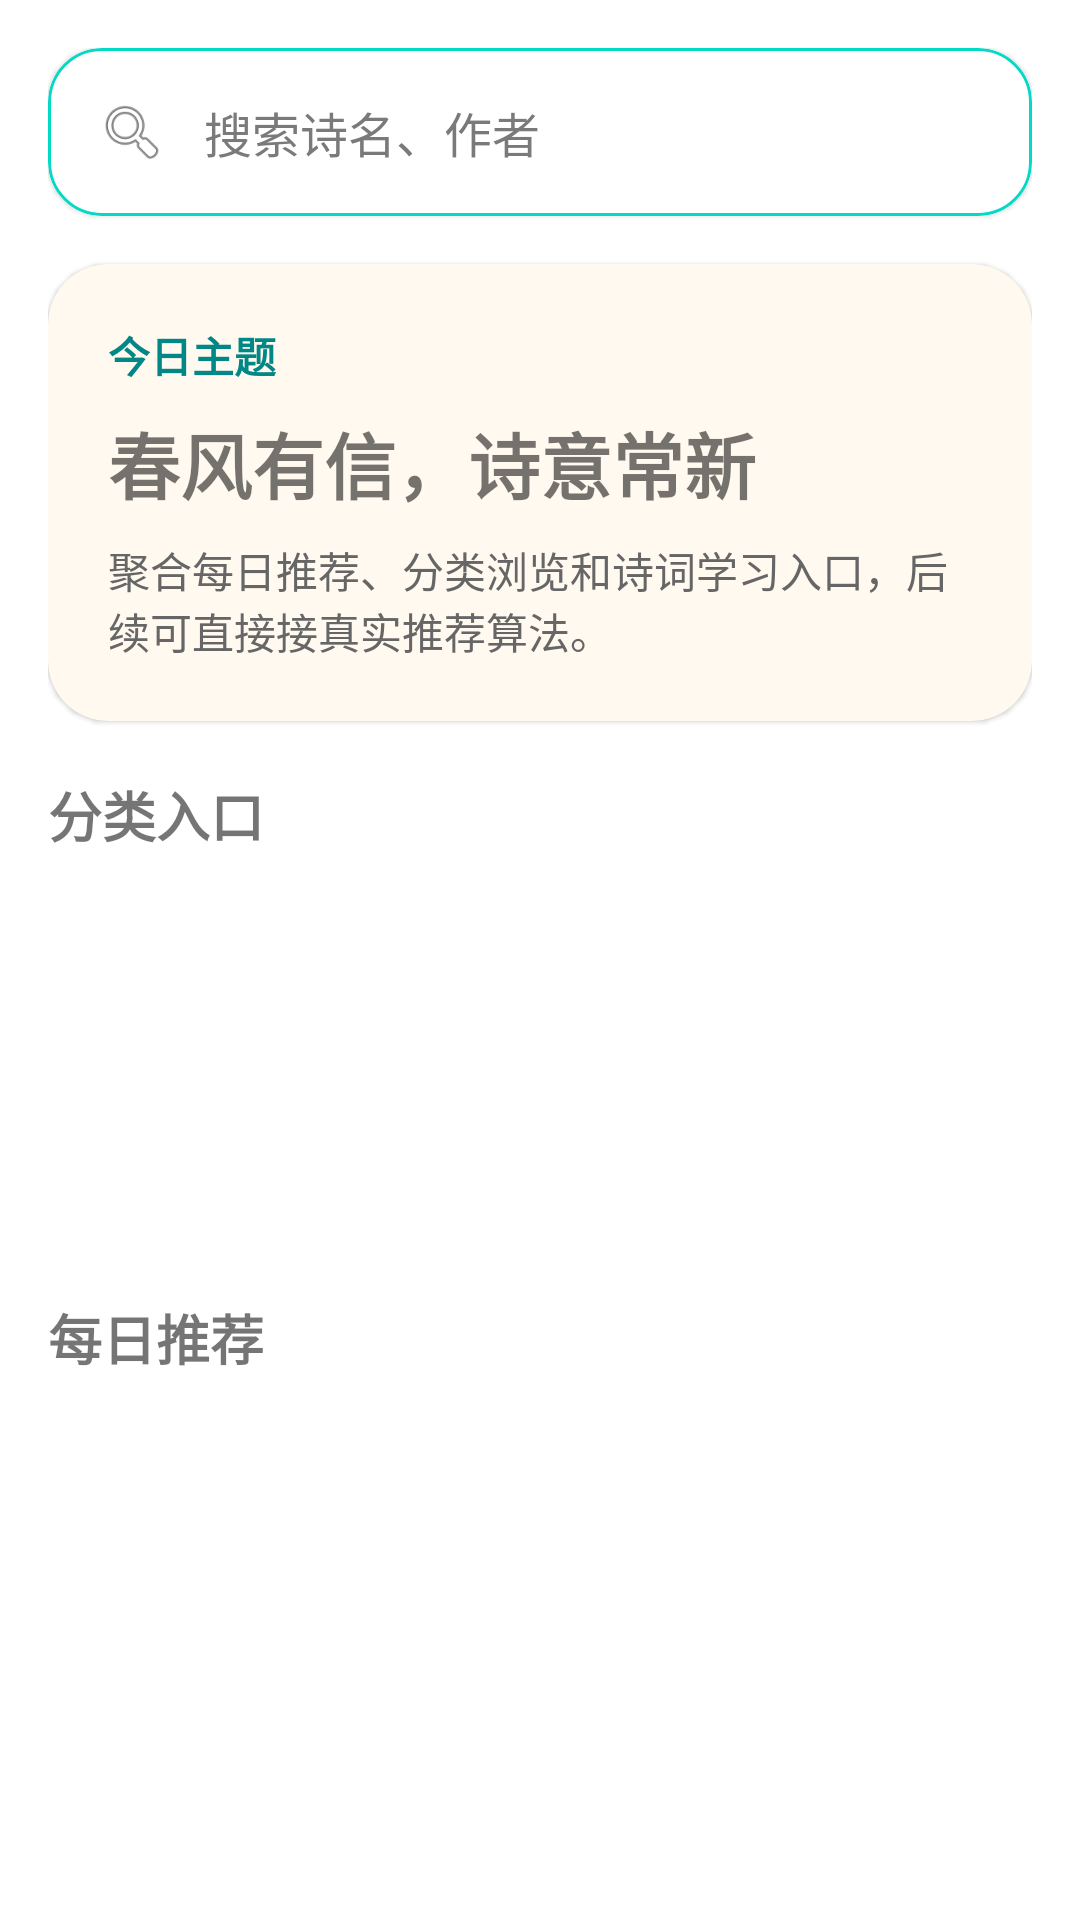

Point at icon controls on the screen. Image size 1080 × 1920, points as point (x, y).
search: point (132, 132)
